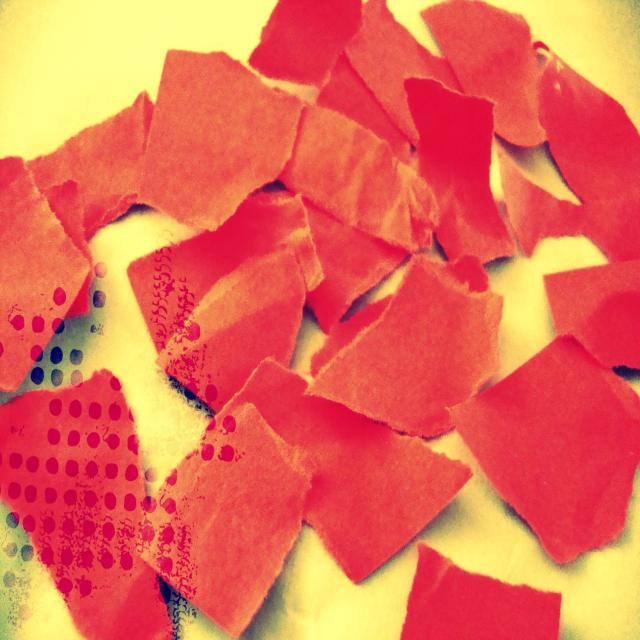paper: (166, 115, 470, 528)
